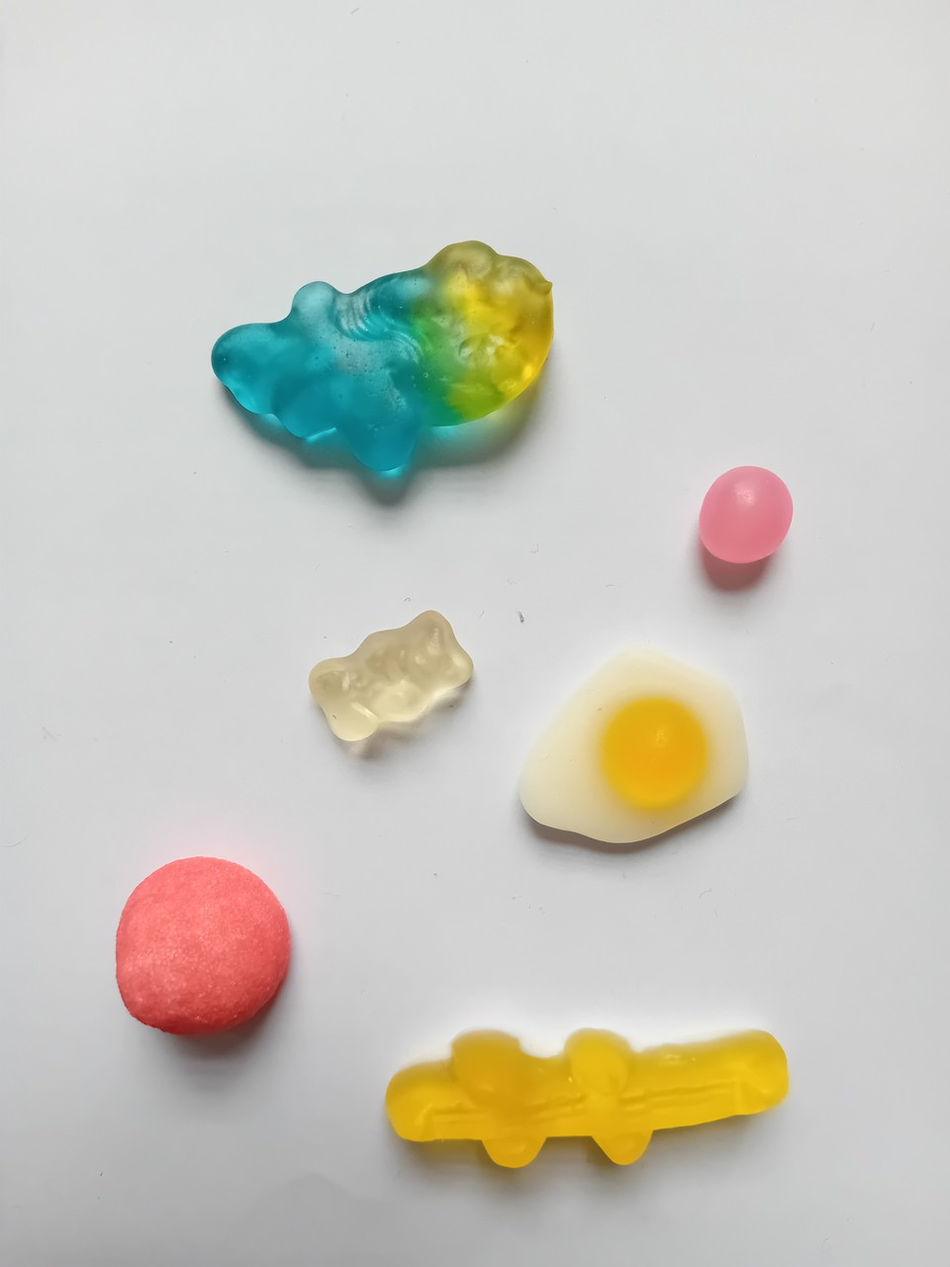crocodile_jaune: (371, 1022, 795, 1179)
dragibus_rose: (680, 459, 799, 567)
oeuf_oeuf: (493, 639, 761, 858)
ourson_blanc: (300, 599, 477, 747)
schtroumpf_bleu-jaune: (196, 236, 561, 488)
tagada_fraise: (112, 853, 295, 1049)
